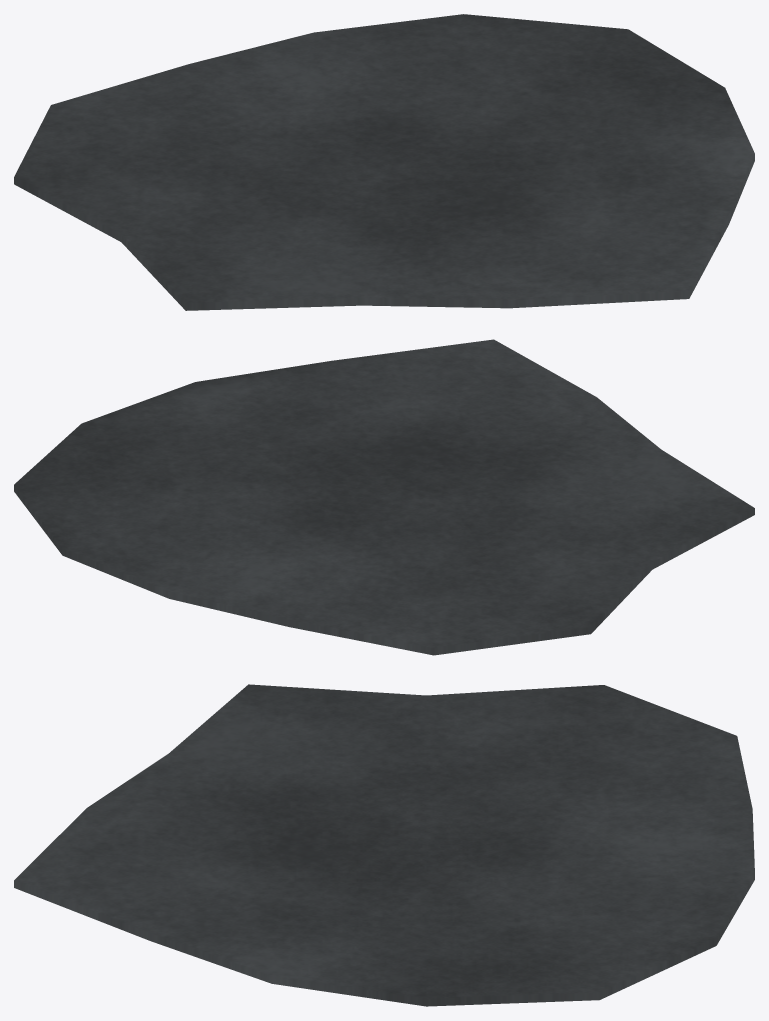
The model's file is SH_RoadPatch_1m.obj.
The picture shows the model from 3 angles, top to bottom: view 1: azimuth 30°, elevation 25°; view 2: azimuth 150°, elevation 25°; view 3: azimuth 270°, elevation 25°; orthographic projection. The views are drawn at different scales.
Parts seen in each view (by area): view 1: SH_RoadPatch_1m; view 2: SH_RoadPatch_1m; view 3: SH_RoadPatch_1m.
Boxes of the visible parts, box(x1,y1,x2,y2) form: SH_RoadPatch_1m: box(14, 14, 754, 310); SH_RoadPatch_1m: box(14, 339, 754, 655); SH_RoadPatch_1m: box(14, 684, 754, 1006).
Bounding box in the file's own units: 1.09 × 0.012 × 1.08.
Materials: 1 (1 with a texture image).
